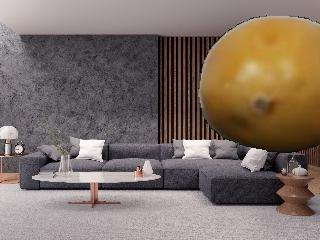potato: (199, 15, 320, 153)
